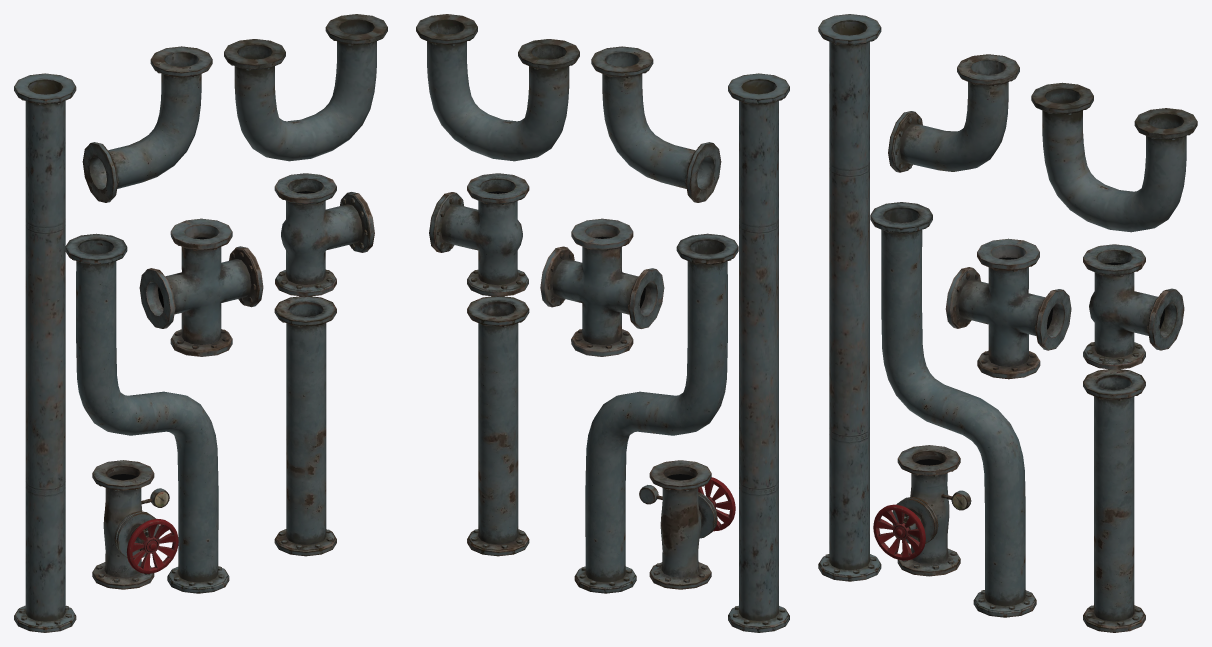
File: modular_industrial_pipes_01.gltf
3 views of the same model, side by side, from view 1: azimuth 30°, elevation 25°; view 2: azimuth 150°, elevation 25°; view 3: azimuth 330°, elevation 25° (orthographic).
Visible parts, largest first — view 1: modular_industrial_pipes_01_pipe02, modular_industrial_pipes_01_pipe03, modular_industrial_pipes_01_pipe05, modular_industrial_pipes_01_pipe01, modular_industrial_pipes_01_pipe07, modular_industrial_pipes_01_pipe04, modular_industrial_pipes_01_pipe06, modular_industrial_pipes_01_pipe08; view 2: modular_industrial_pipes_01_pipe02, modular_industrial_pipes_01_pipe03, modular_industrial_pipes_01_pipe05, modular_industrial_pipes_01_pipe01, modular_industrial_pipes_01_pipe07, modular_industrial_pipes_01_pipe04, modular_industrial_pipes_01_pipe06, modular_industrial_pipes_01_pipe08; view 3: modular_industrial_pipes_01_pipe02, modular_industrial_pipes_01_pipe03, modular_industrial_pipes_01_pipe05, modular_industrial_pipes_01_pipe01, modular_industrial_pipes_01_pipe07, modular_industrial_pipes_01_pipe06, modular_industrial_pipes_01_pipe04, modular_industrial_pipes_01_pipe08.
Part boxes in pixels (x1=…): modular_industrial_pipes_01_pipe02: x1=14, y1=73, x2=76, y2=632; modular_industrial_pipes_01_pipe03: x1=65, y1=233, x2=229, y2=593; modular_industrial_pipes_01_pipe05: x1=224, y1=14, x2=387, y2=161; modular_industrial_pipes_01_pipe01: x1=274, y1=296, x2=336, y2=556; modular_industrial_pipes_01_pipe07: x1=139, y1=218, x2=263, y2=356; modular_industrial_pipes_01_pipe04: x1=82, y1=46, x2=212, y2=202; modular_industrial_pipes_01_pipe06: x1=274, y1=173, x2=374, y2=296; modular_industrial_pipes_01_pipe08: x1=92, y1=460, x2=178, y2=589; modular_industrial_pipes_01_pipe02: x1=728, y1=73, x2=789, y2=632; modular_industrial_pipes_01_pipe03: x1=574, y1=233, x2=738, y2=593; modular_industrial_pipes_01_pipe05: x1=416, y1=14, x2=579, y2=161; modular_industrial_pipes_01_pipe01: x1=467, y1=296, x2=529, y2=556; modular_industrial_pipes_01_pipe07: x1=540, y1=218, x2=664, y2=356; modular_industrial_pipes_01_pipe04: x1=591, y1=46, x2=721, y2=202; modular_industrial_pipes_01_pipe06: x1=429, y1=173, x2=529, y2=296; modular_industrial_pipes_01_pipe08: x1=639, y1=460, x2=735, y2=589; modular_industrial_pipes_01_pipe02: x1=818, y1=14, x2=881, y2=581; modular_industrial_pipes_01_pipe03: x1=870, y1=202, x2=1036, y2=617; modular_industrial_pipes_01_pipe05: x1=1031, y1=82, x2=1197, y2=232; modular_industrial_pipes_01_pipe01: x1=1083, y1=369, x2=1145, y2=632; modular_industrial_pipes_01_pipe07: x1=945, y1=238, x2=1071, y2=379; modular_industrial_pipes_01_pipe06: x1=1083, y1=244, x2=1184, y2=369; modular_industrial_pipes_01_pipe04: x1=888, y1=54, x2=1019, y2=172; modular_industrial_pipes_01_pipe08: x1=873, y1=445, x2=971, y2=576.
Bounding box in the file's own units: 1.4 × 1.95 × 0.3076.
Materials: 2 (2 with a texture image).
